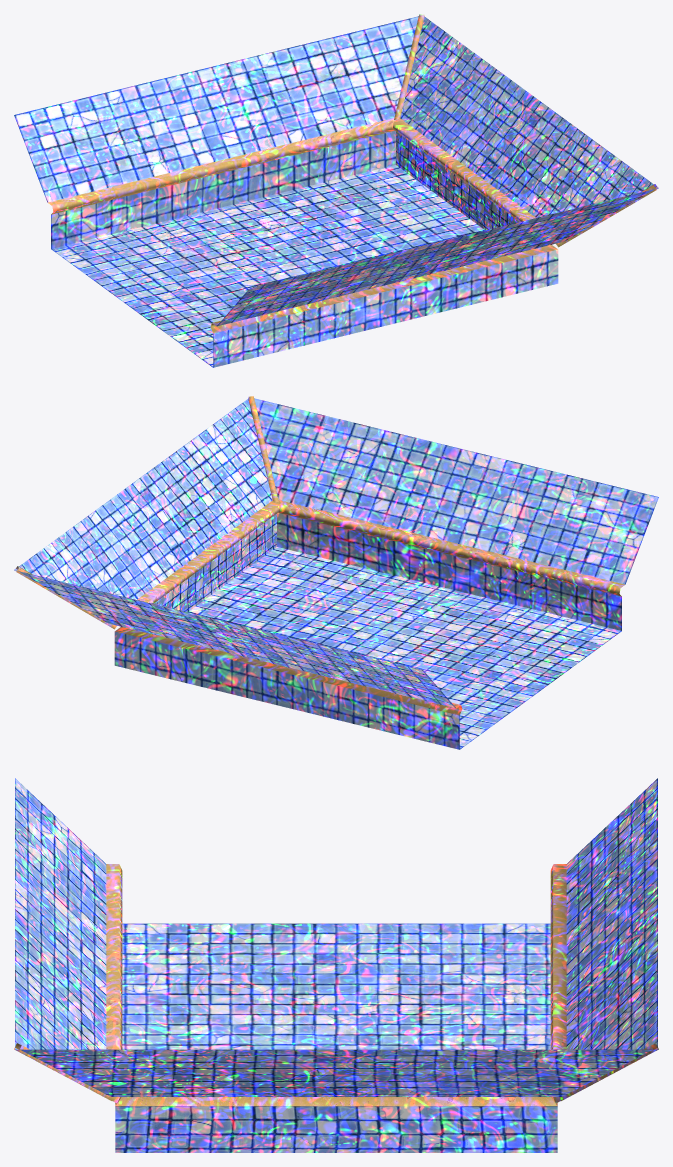
The model's file is water_3_sides_SM.fbx.
The picture shows the model from 3 angles, top to bottom: view 1: azimuth 30°, elevation 25°; view 2: azimuth 150°, elevation 25°; view 3: azimuth 270°, elevation 25°; orthographic projection. The views are drawn at different scales.
Parts seen in each view (by area): view 1: water_3_sides_SM_LOD0; view 2: water_3_sides_SM_LOD0; view 3: water_3_sides_SM_LOD0.
Boxes of the visible parts, <box> form: water_3_sides_SM_LOD0: <box>14,14,658,367</box>; water_3_sides_SM_LOD0: <box>14,396,658,749</box>; water_3_sides_SM_LOD0: <box>14,778,658,1152</box>.
Size of the model in its own units: 1026 by 1027 by 263.
3 materials, 3 textured.
